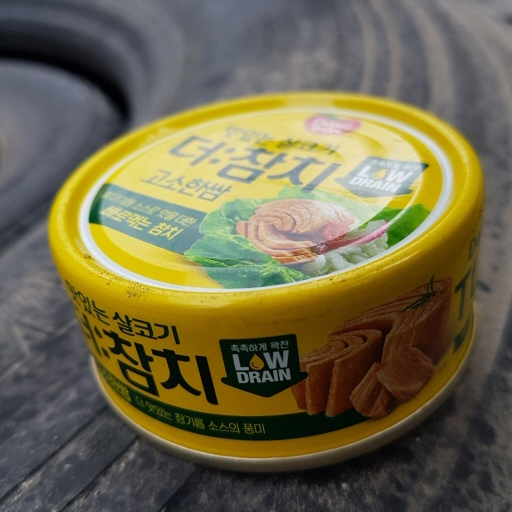Metal_1: (41, 91, 488, 464)
